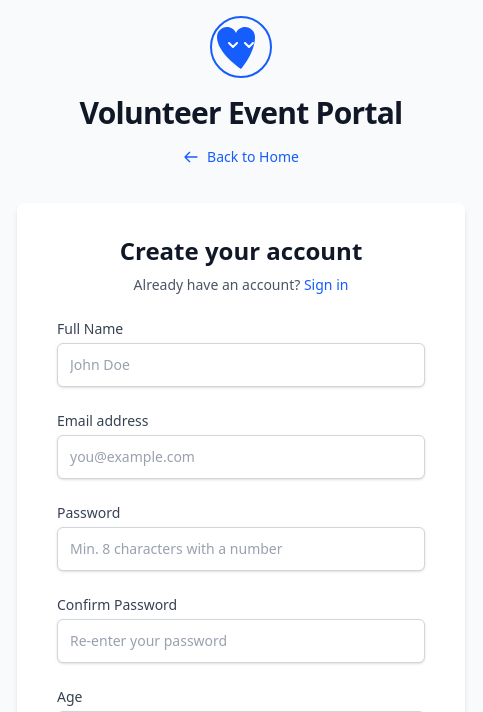
Test: RegisterPage › shows validation error for invalid email format
The image size is (483, 712).
Type "invalid-email" into the field labelled "Email address". click: (241, 457)
box: [57,435,425,479]
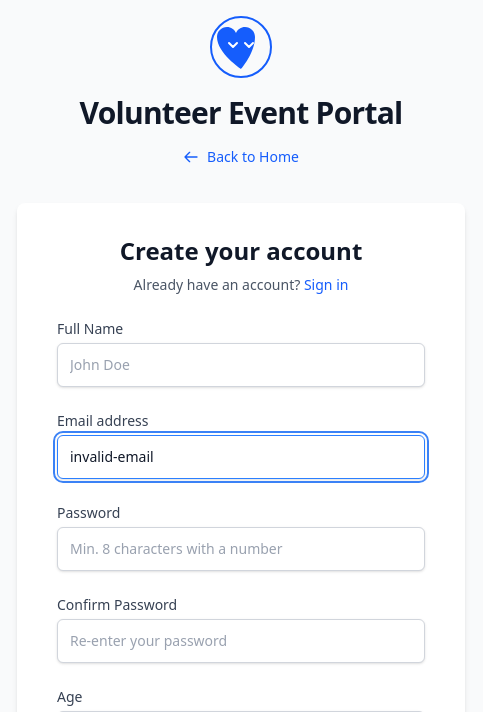
Press Tab
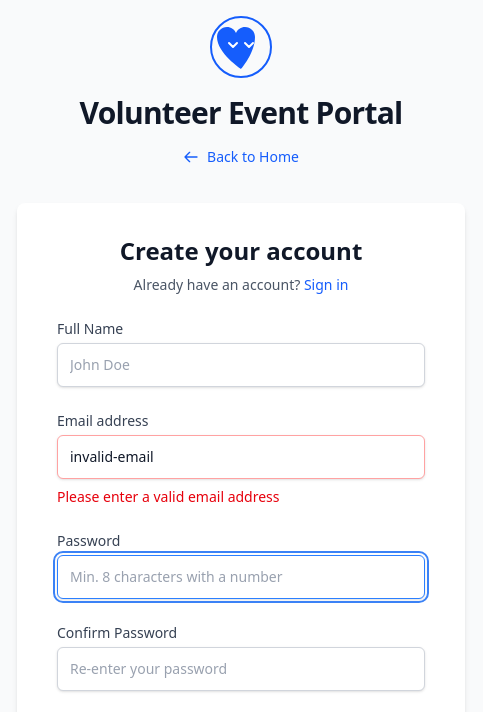
Expected: the text "Please enter a valid email address" is shown, [57,487,280,506]
